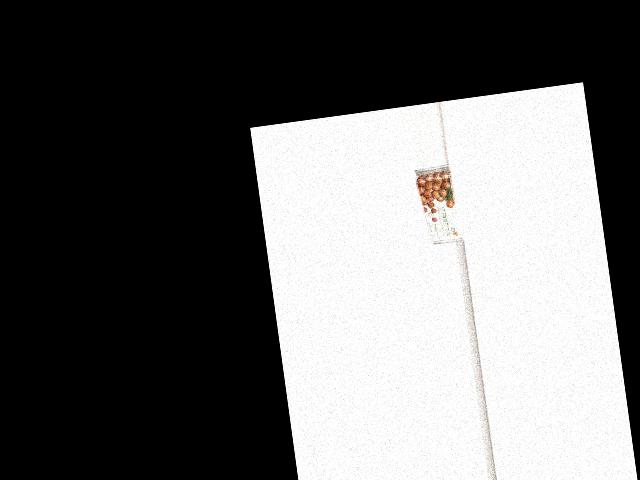chocolate: (413, 165, 461, 246)
